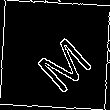M_NW: (21, 21, 89, 89)
